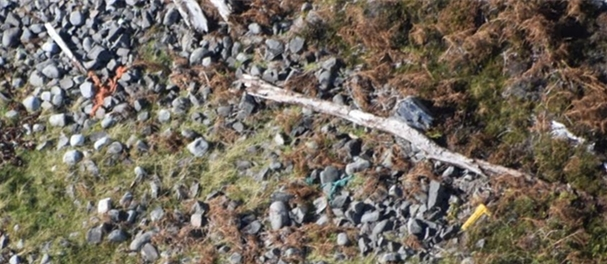net: (84, 66, 131, 110), (316, 172, 354, 201)
straight_bar: (244, 76, 370, 124), (370, 115, 463, 167), (465, 154, 555, 186), (35, 17, 79, 65)
white_in_green: (446, 185, 511, 249)
